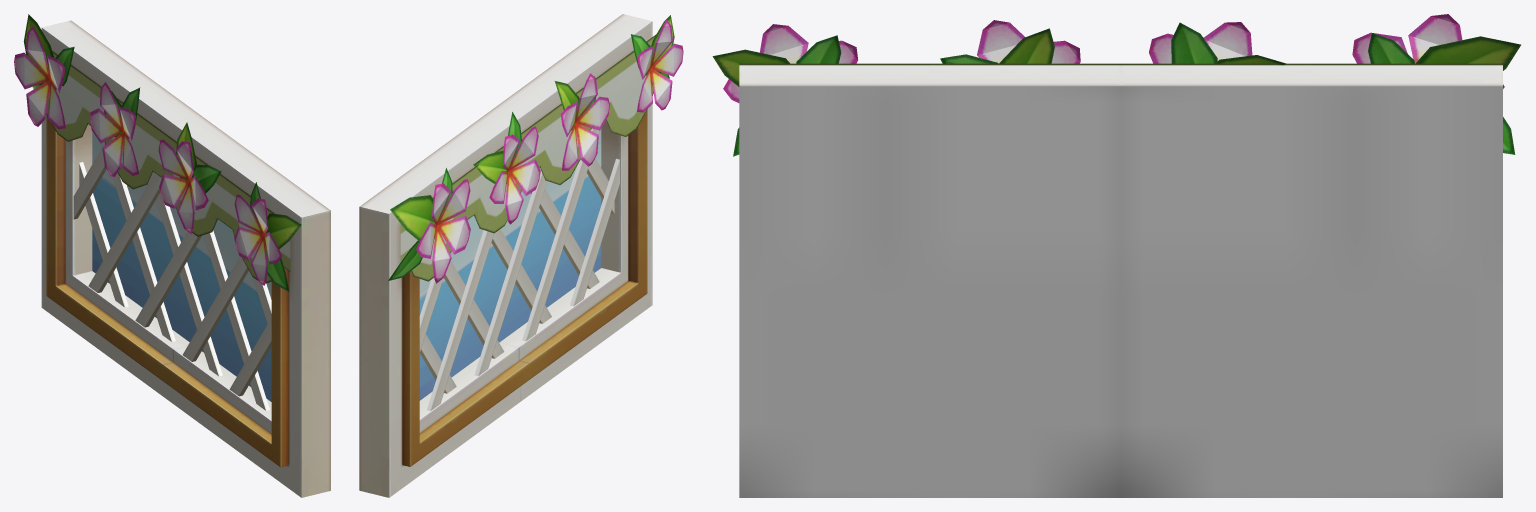
Rendered from my_sunshineresort_01_window_01.glb.
The picture shows the model from 3 angles, left to right: view 1: azimuth 30°, elevation 25°; view 2: azimuth 150°, elevation 25°; view 3: azimuth 270°, elevation 25°; orthographic projection. The views are drawn at different scales.
Visible parts, largest first — view 1: my_sunshineresort_01_window_01; view 2: my_sunshineresort_01_window_01; view 3: my_sunshineresort_01_window_01.
Part boxes in pixels (left/top/right/bottom): my_sunshineresort_01_window_01: left=14, top=14, right=330, bottom=497; my_sunshineresort_01_window_01: left=359, top=14, right=683, bottom=497; my_sunshineresort_01_window_01: left=712, top=14, right=1520, bottom=497.
Bounding box in the file's own units: 0.00102 × 0.00506 × 0.00831.
Materials: 1 (1 with a texture image).
